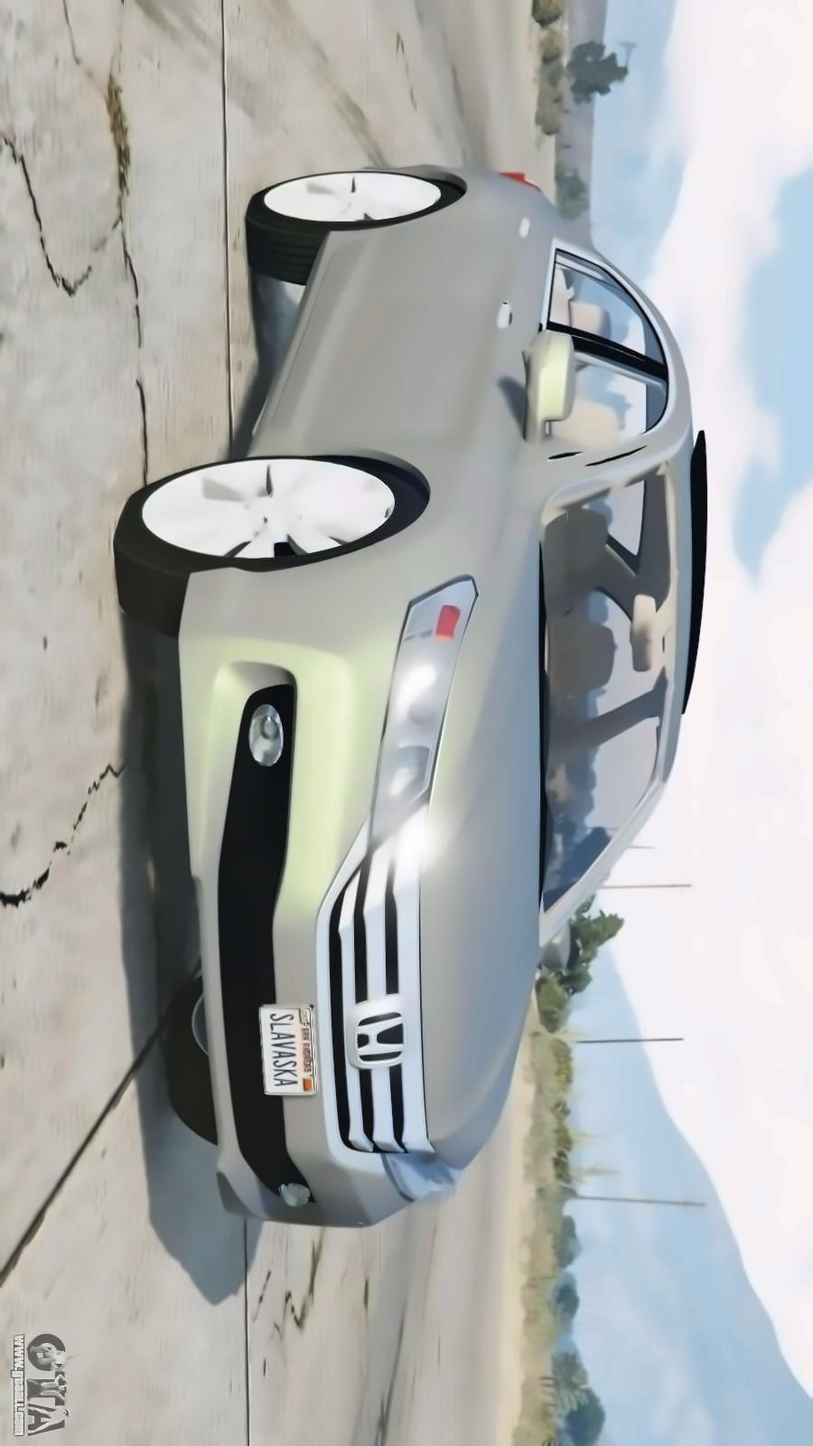Car hood: (414, 529, 545, 1172)
Driver-s door - -F-R-: (204, 319, 746, 505)
Fender - -F-R-: (248, 438, 539, 632)
Front bumper: (157, 547, 420, 1246)
Headlight - -L-: (386, 1148, 468, 1206)
Headlight - -R-: (371, 576, 479, 843)
Passenger-s door - -R-R-: (255, 206, 703, 368)
Side bumper - -R-: (226, 215, 370, 469)
Side mirror - -R-: (515, 326, 583, 455)
